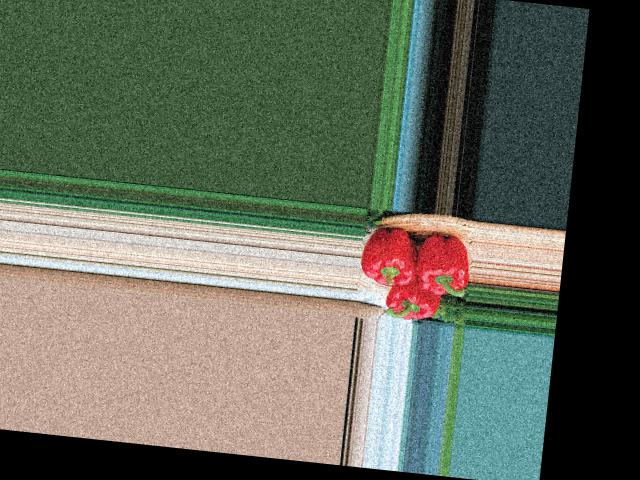bell_pepper: (407, 224, 473, 298)
